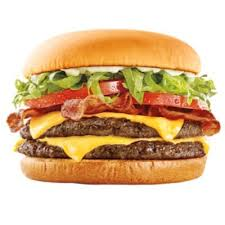hamburger: (7, 28, 221, 184)
